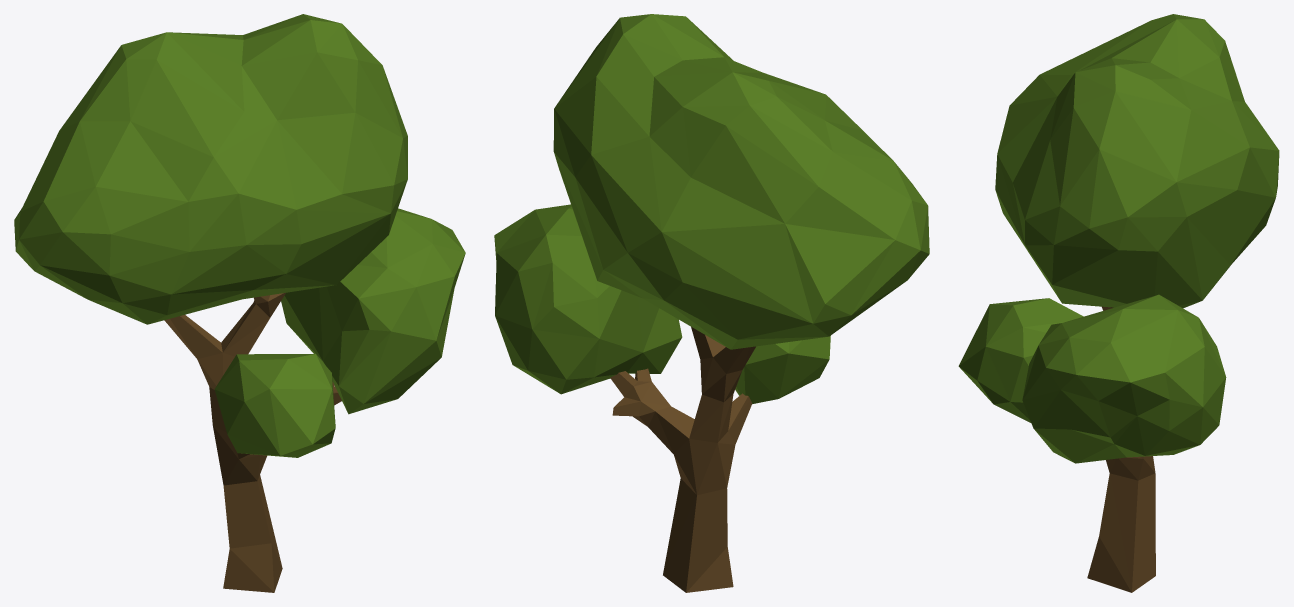
3 views of the same model, side by side, from view 1: azimuth 30°, elevation 25°; view 2: azimuth 150°, elevation 25°; view 3: azimuth 270°, elevation 25° (orthographic). The views are drawn at different scales.
Visible parts, largest first — view 1: Tree1_1; view 2: Tree1_1; view 3: Tree1_1.
Part boxes in pixels (<box>): Tree1_1: <box>14,14,465,592</box>; Tree1_1: <box>494,14,929,592</box>; Tree1_1: <box>958,14,1279,592</box>.
Size of the model in its own units: 6 by 7.34 by 3.97.
